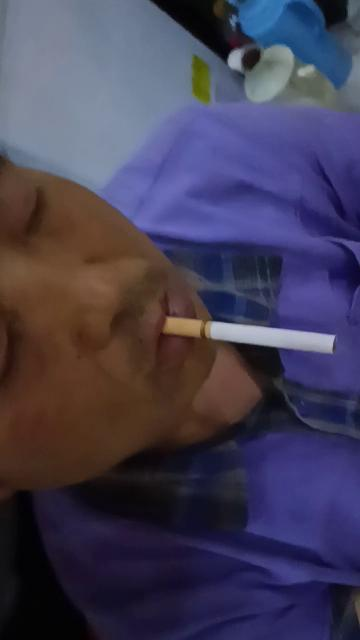Smoking: (162, 316, 338, 356)
